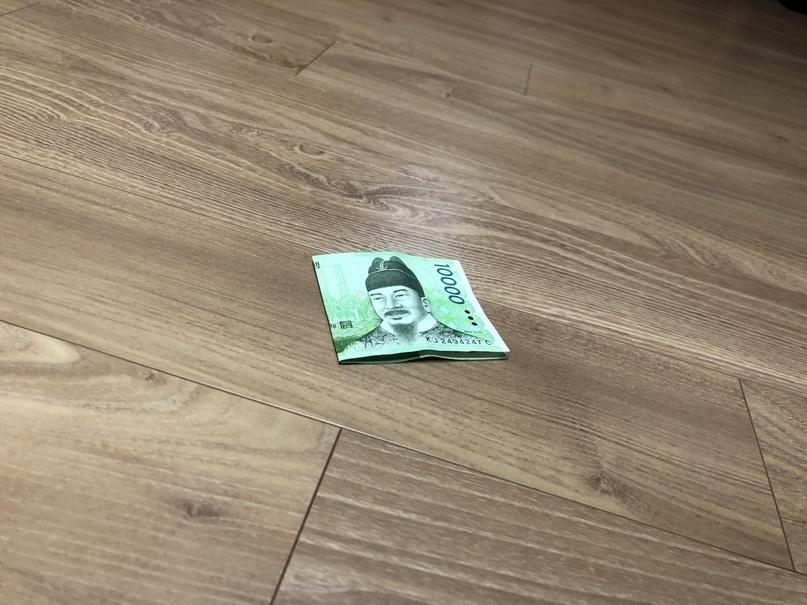10000won: (312, 250, 508, 365)
